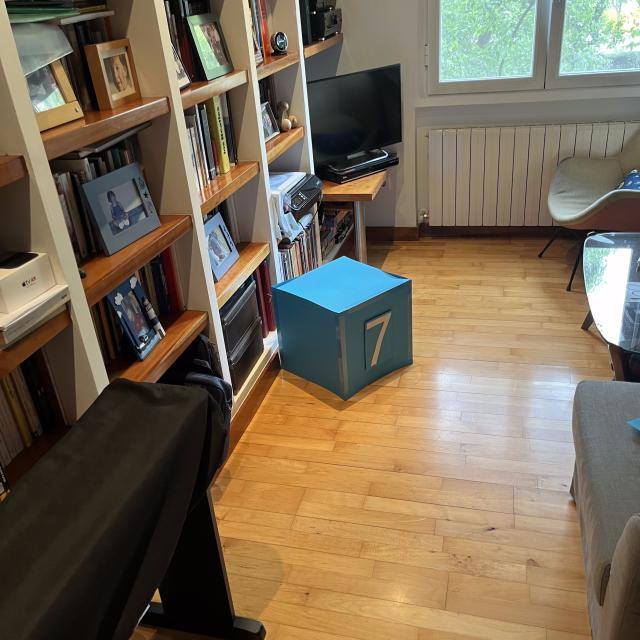box: (267, 251, 417, 402)
